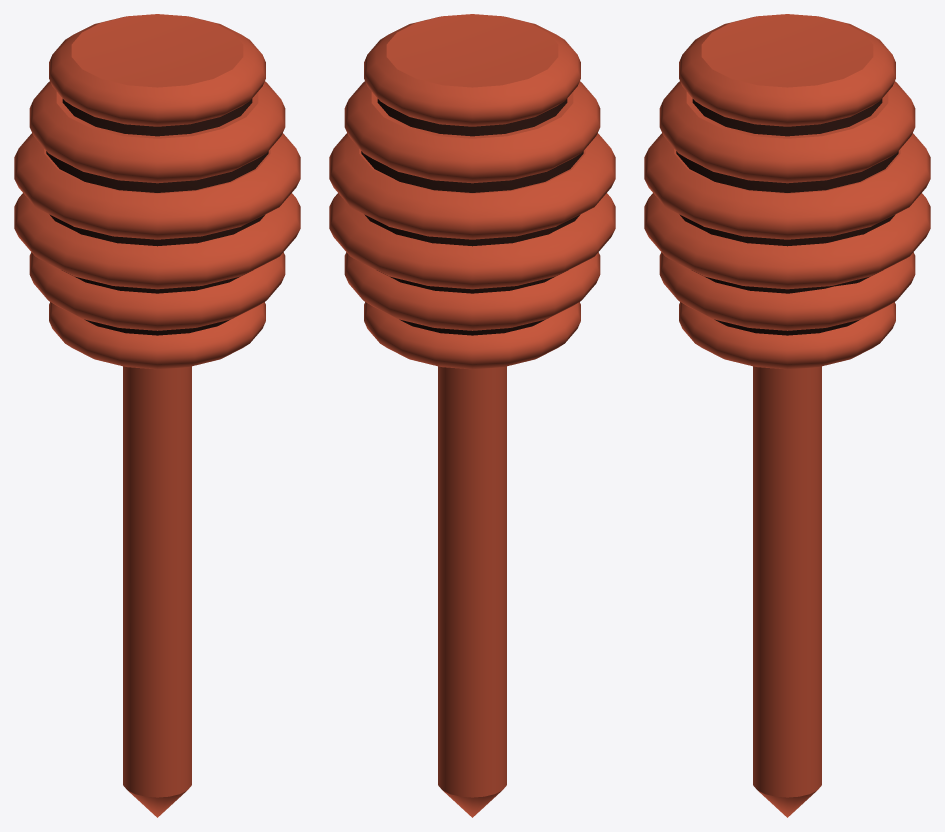
The model's file is stick.obj.
The picture shows the model from 3 angles, left to right: view 1: azimuth 30°, elevation 25°; view 2: azimuth 150°, elevation 25°; view 3: azimuth 270°, elevation 25°; orthographic projection.
Parts seen in each view (by area): view 1: pCylinder1, pCylinder2, pasted__pasted__pCylinder2 pasted__group8 group11, pasted__pCylinder2 group8, pasted__pasted__pasted__pCylinder2 pasted__pasted__group8 pasted, pasted__pasted__pCylinder2 pasted__group8 group10, pasted__pCylinder2 group9, pasted__pCylinder1 group5; view 2: pCylinder1, pCylinder2, pasted__pasted__pCylinder2 pasted__group8 group11, pasted__pCylinder2 group8, pasted__pasted__pasted__pCylinder2 pasted__pasted__group8 pasted, pasted__pasted__pCylinder2 pasted__group8 group10, pasted__pCylinder2 group9, pasted__pCylinder1 group5; view 3: pCylinder1, pCylinder2, pasted__pasted__pCylinder2 pasted__group8 group11, pasted__pCylinder2 group8, pasted__pasted__pasted__pCylinder2 pasted__pasted__group8 pasted, pasted__pasted__pCylinder2 pasted__group8 group10, pasted__pCylinder2 group9, pasted__pCylinder1 group5.
Part boxes in pixels (x1,y1,x2,y2): pCylinder1: (123, 366, 191, 817); pCylinder2: (49, 14, 265, 126); pasted__pasted__pCylinder2 pasted__group8 group11: (14, 133, 300, 239); pasted__pCylinder2 group8: (29, 81, 285, 183); pasted__pasted__pasted__pCylinder2 pasted__pasted__group8 pasted: (14, 193, 300, 289); pasted__pasted__pCylinder2 pasted__group8 group10: (29, 252, 285, 330); pasted__pCylinder2 group9: (49, 302, 265, 369); pasted__pCylinder1 group5: (46, 99, 268, 335); pCylinder1: (438, 366, 506, 817); pCylinder2: (364, 14, 580, 126); pasted__pasted__pCylinder2 pasted__group8 group11: (329, 133, 615, 239); pasted__pCylinder2 group8: (344, 81, 600, 183); pasted__pasted__pasted__pCylinder2 pasted__pasted__group8 pasted: (329, 193, 615, 289); pasted__pasted__pCylinder2 pasted__group8 group10: (344, 252, 600, 330); pasted__pCylinder2 group9: (364, 302, 580, 369); pasted__pCylinder1 group5: (361, 99, 583, 335); pCylinder1: (753, 366, 821, 817); pCylinder2: (679, 14, 895, 126); pasted__pasted__pCylinder2 pasted__group8 group11: (644, 133, 930, 239); pasted__pCylinder2 group8: (659, 81, 915, 183); pasted__pasted__pasted__pCylinder2 pasted__pasted__group8 pasted: (644, 193, 930, 289); pasted__pasted__pCylinder2 pasted__group8 group10: (659, 252, 915, 330); pasted__pCylinder2 group9: (679, 302, 895, 369); pasted__pCylinder1 group5: (676, 99, 898, 335).
Bounding box in the file's own units: 1.48 × 4.31 × 1.46.
